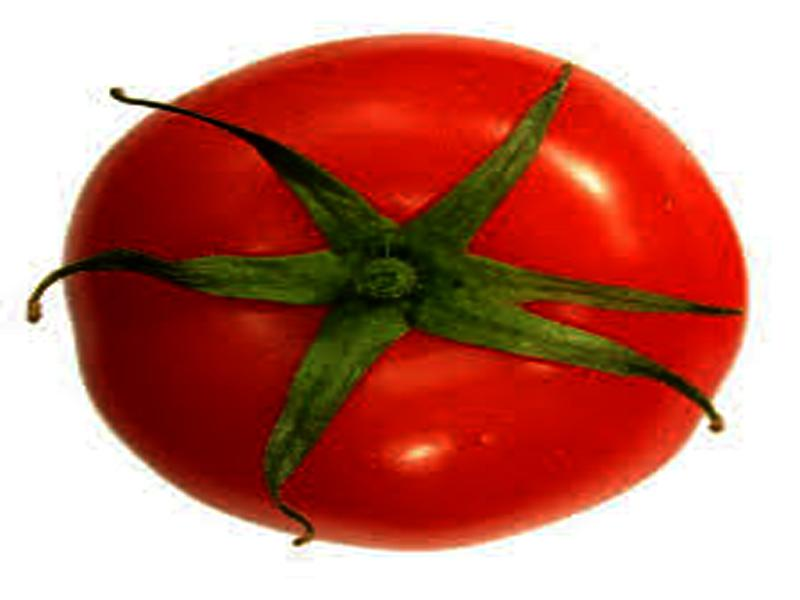Tomato: (64, 35, 750, 546)
